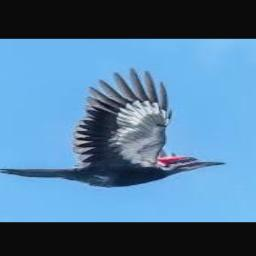Woodpecker: (0, 67, 227, 187)
